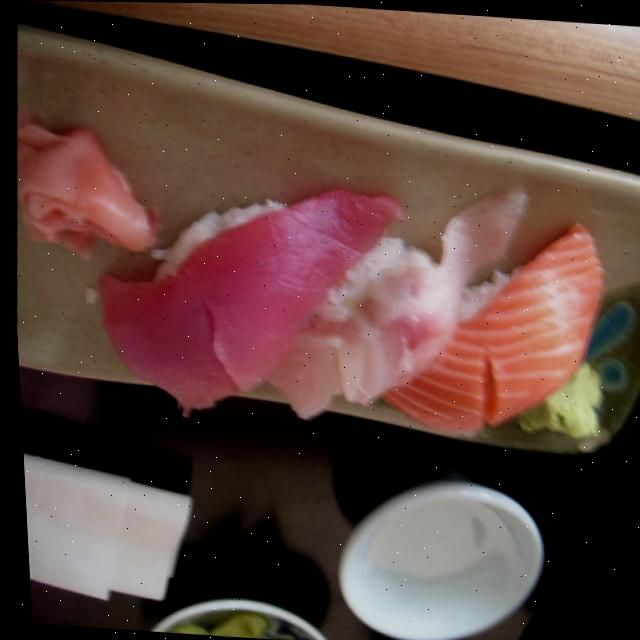寿司卷物: (107, 131, 621, 498)
